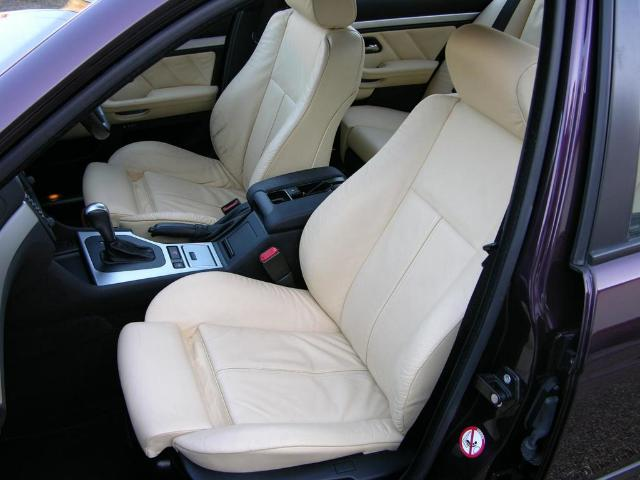Seatbelt: (425, 0, 513, 98)
